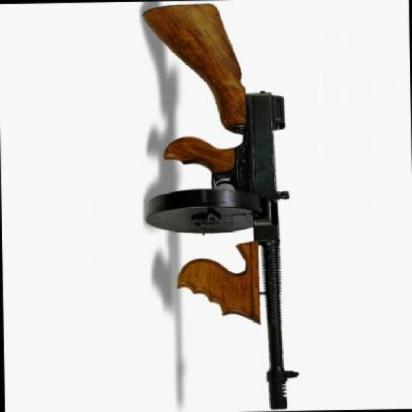Gun: (119, 3, 317, 406)
